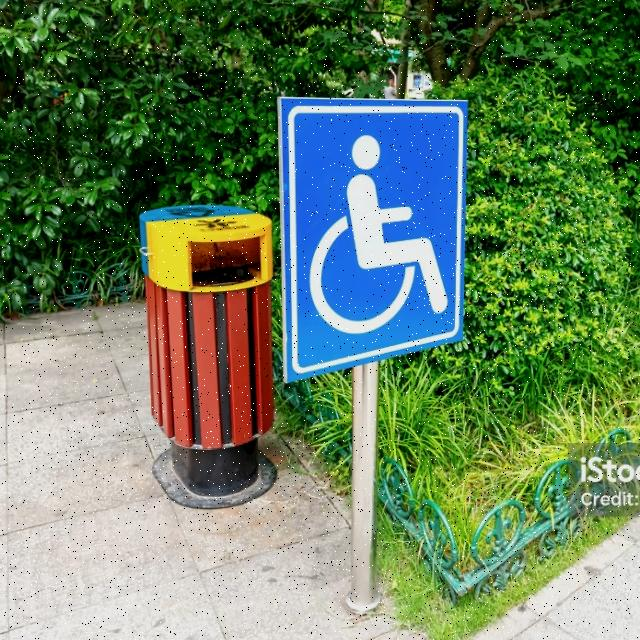symbol_of_access: (273, 92, 469, 390)
